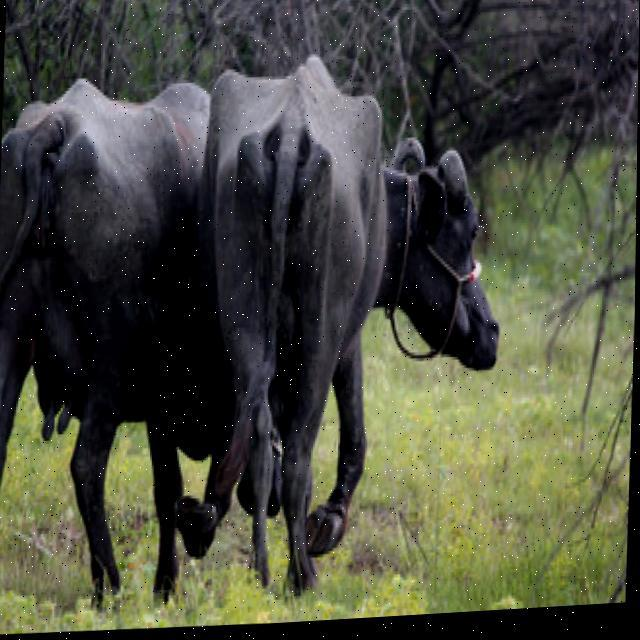Buffalo: (184, 44, 509, 589)
